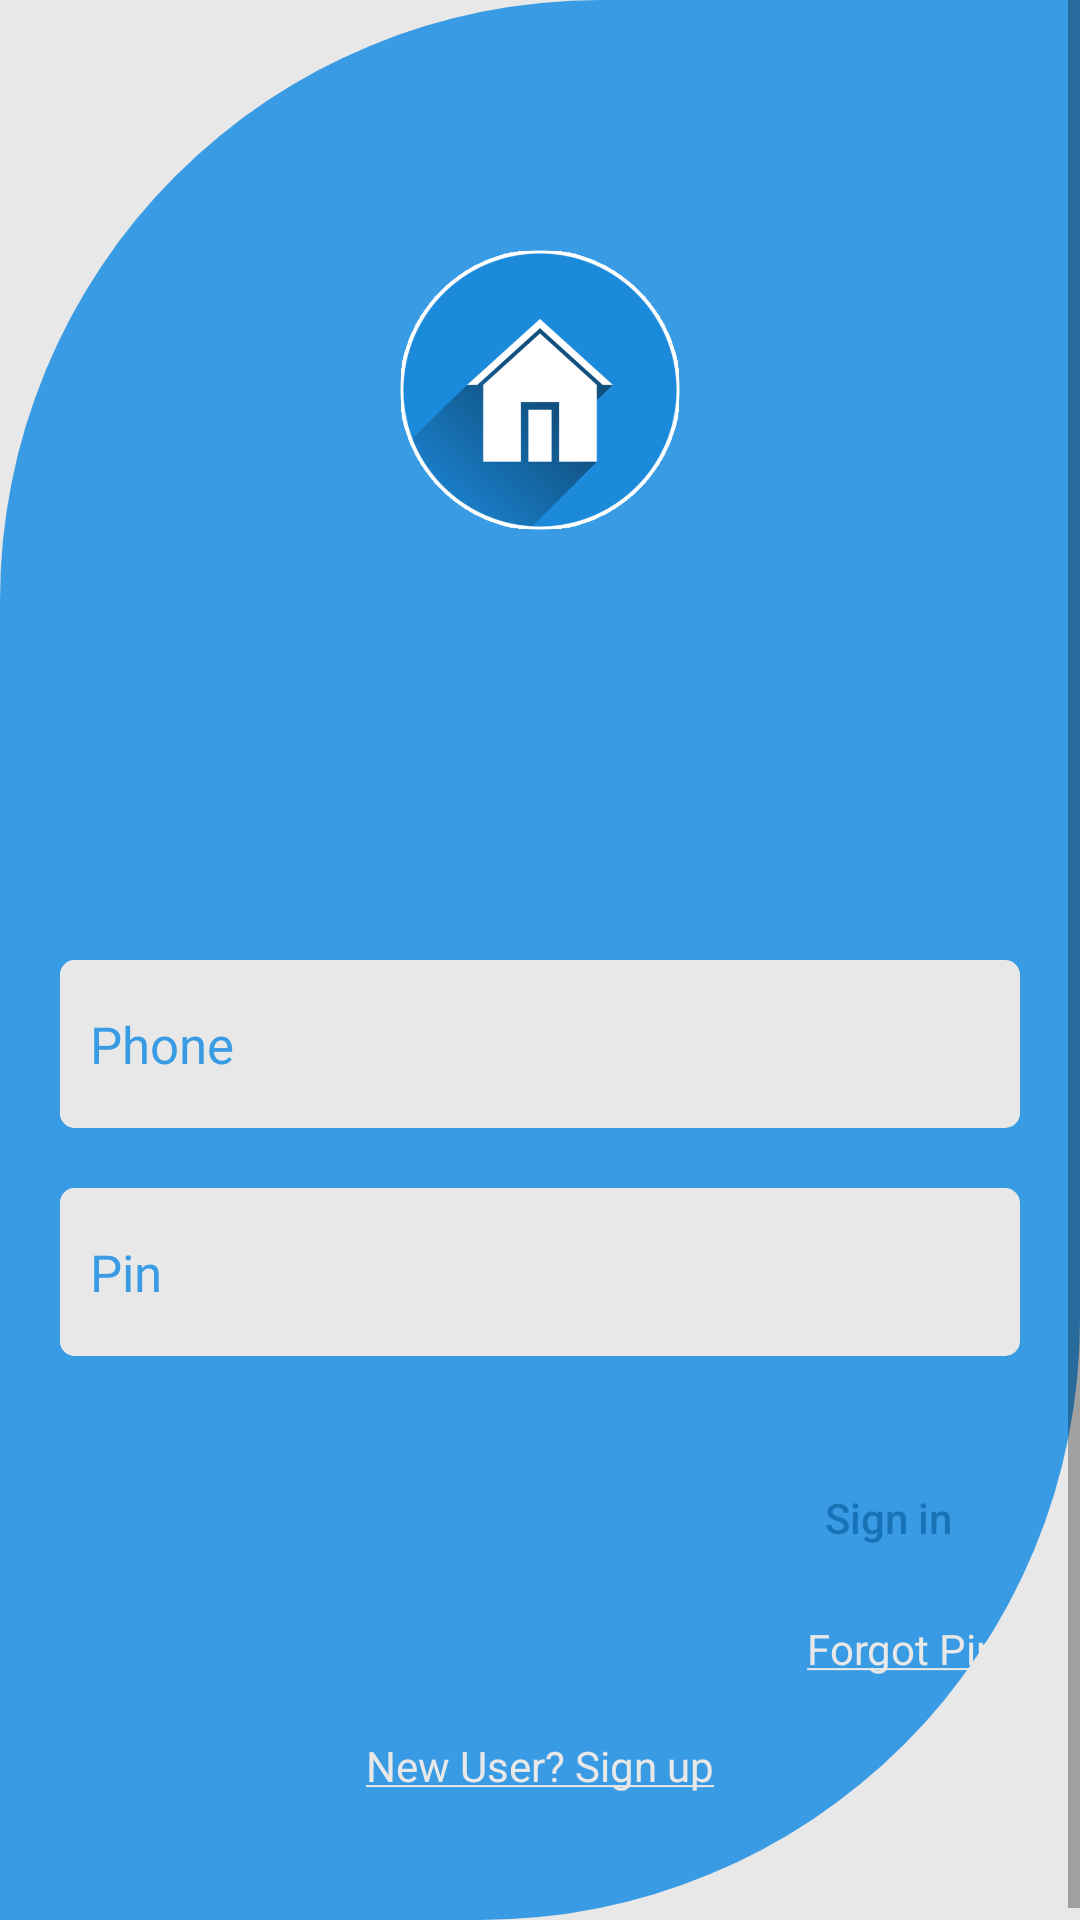

Icons on this 1080*1920 Android screen, each with the point to tap as [x,y]:
main: [540,390]
